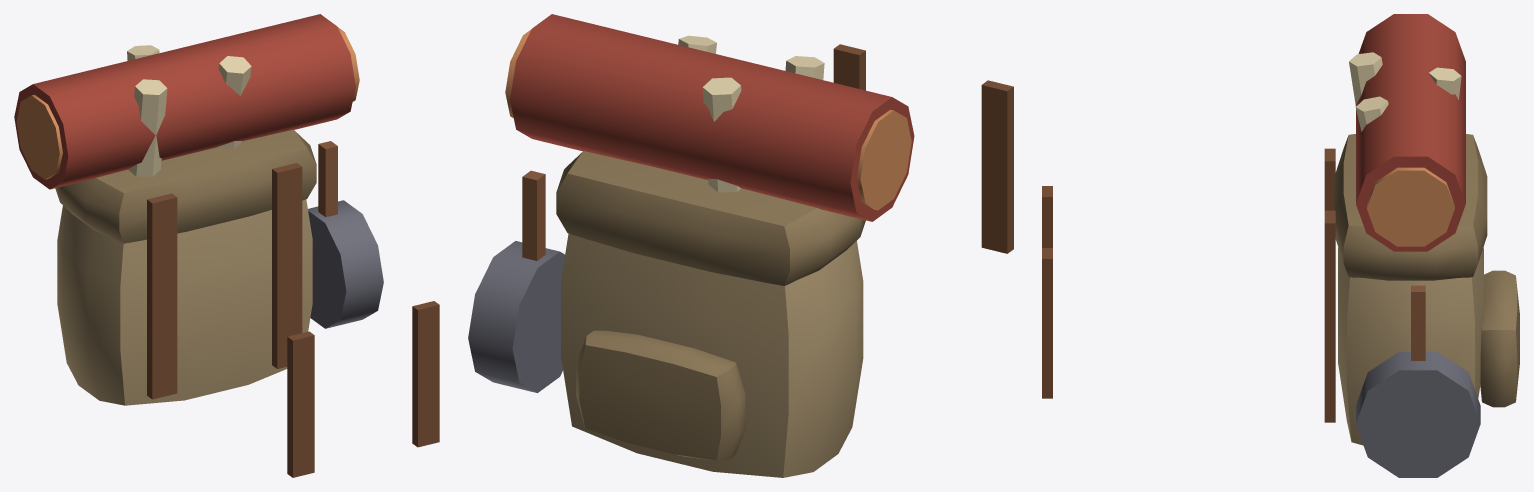
File: merchant_pack.fbx
3 renders of one model, left to right at view 1: azimuth 30°, elevation 25°; view 2: azimuth 150°, elevation 25°; view 3: azimuth 270°, elevation 25°, orthographic. The views are drawn at different scales.
Parts seen in each view (by area): view 1: merchant_pack; view 2: merchant_pack; view 3: merchant_pack.
Boxes of the visible parts, <box> form: merchant_pack: <box>14,14,439,477</box>; merchant_pack: <box>468,14,1013,477</box>; merchant_pack: <box>1042,14,1519,477</box>.
Bounding box in the file's own units: 1.02 × 1 × 1.3.
